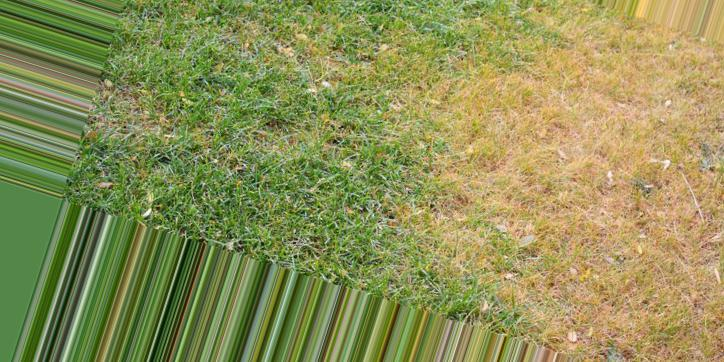patch: (441, 94, 683, 326), (571, 31, 677, 90)
